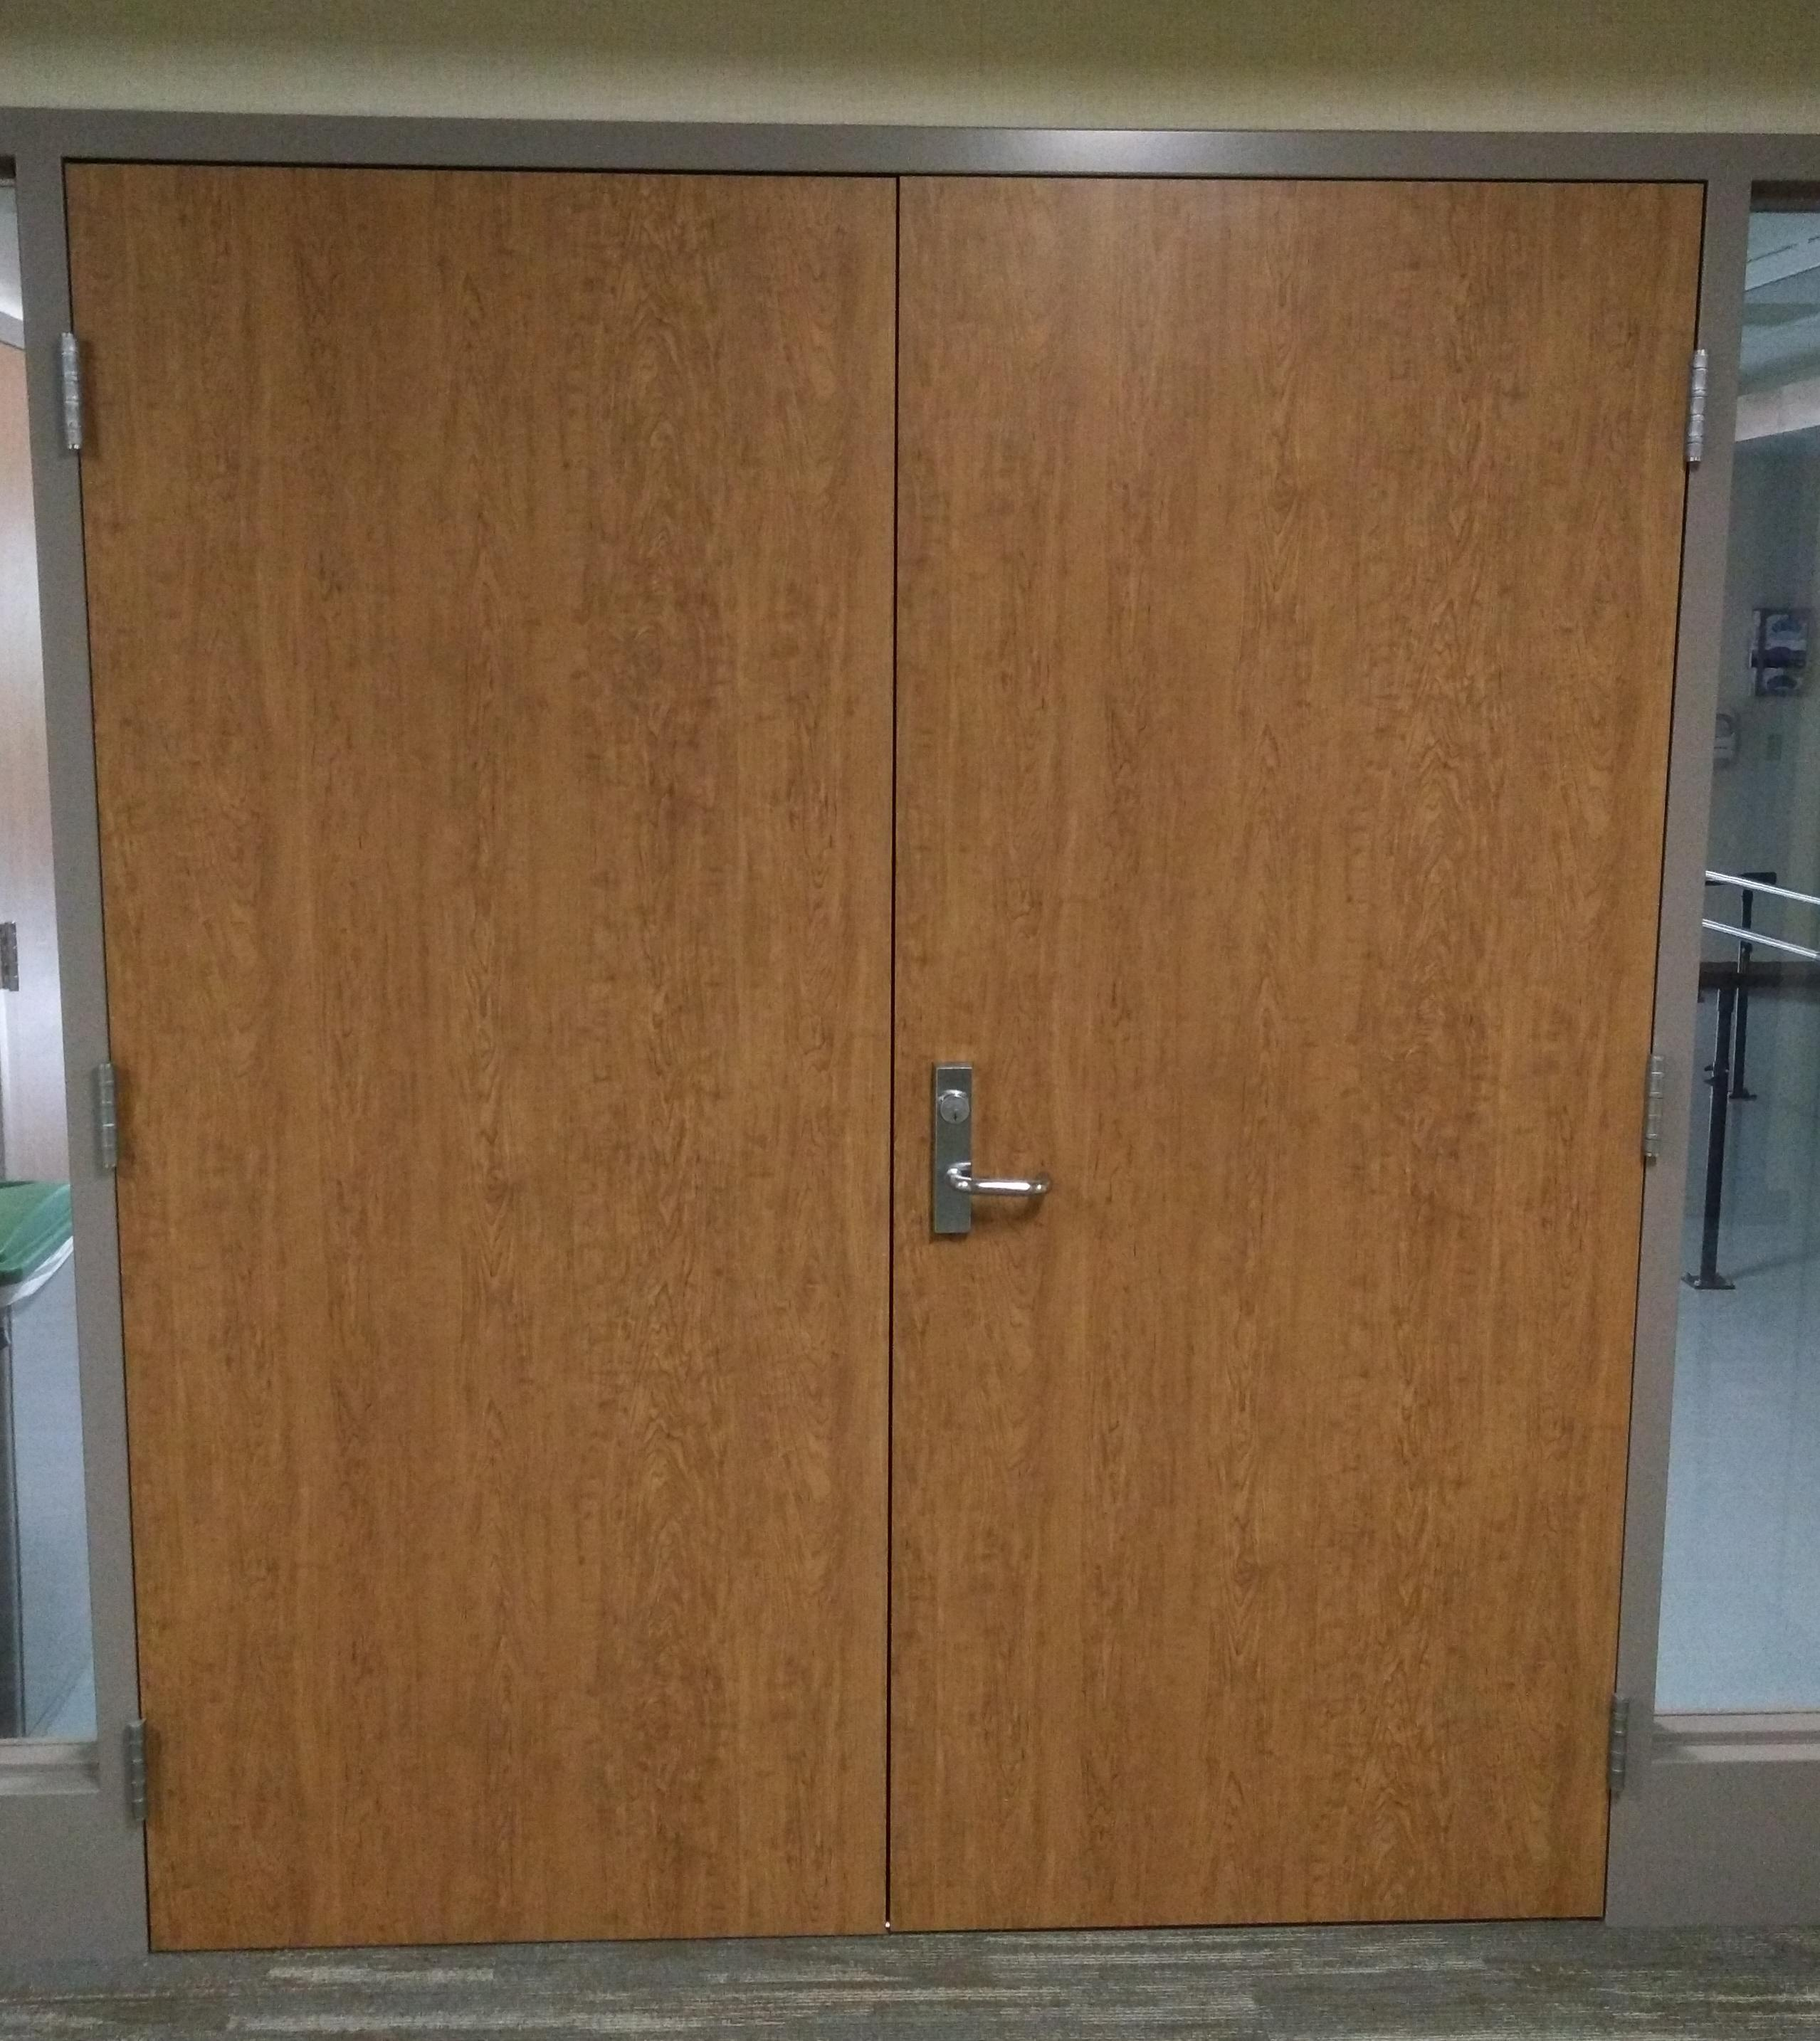door: (33, 141, 1643, 1929)
